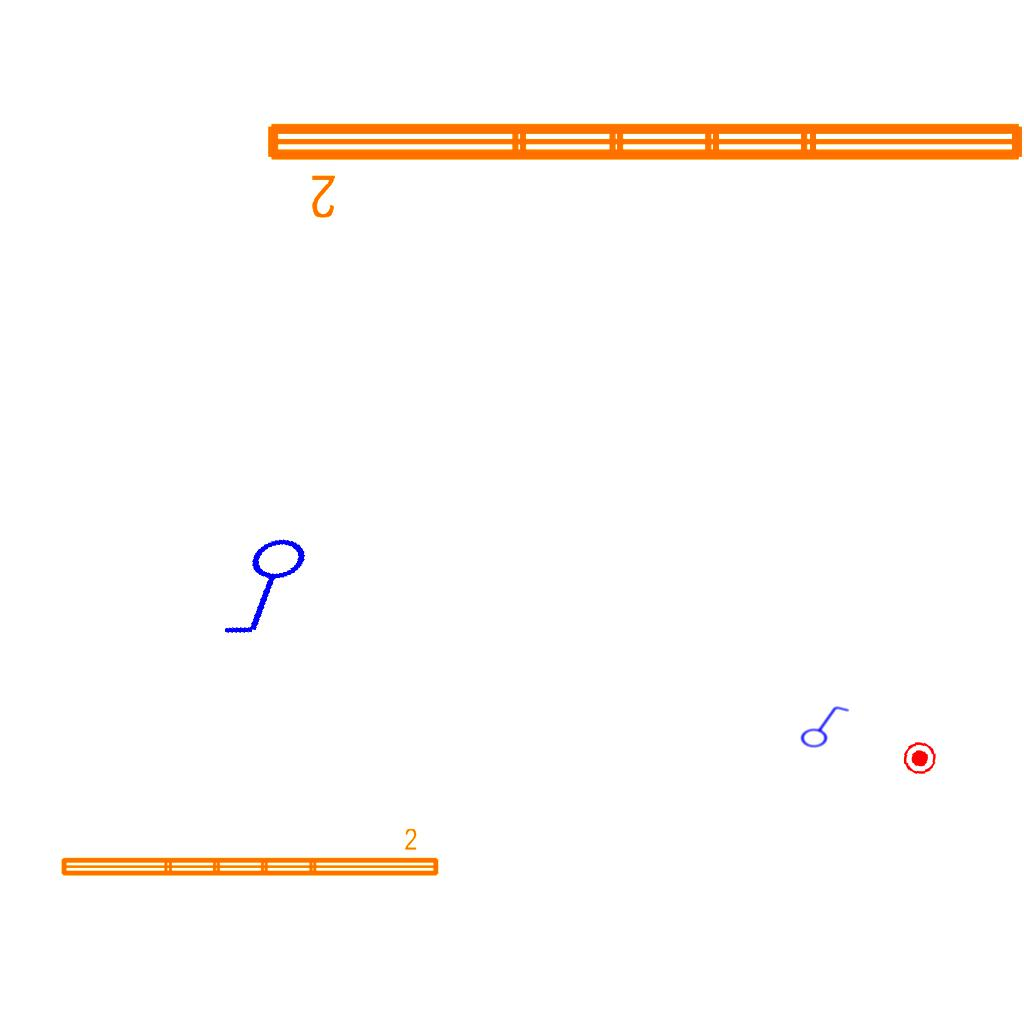Ambulanz_Pendelleuchte_LED: (259, 111, 1024, 223), (56, 826, 443, 882)
Ausschalter: (201, 528, 335, 650), (795, 701, 851, 749)
Taster: (902, 740, 939, 777)
